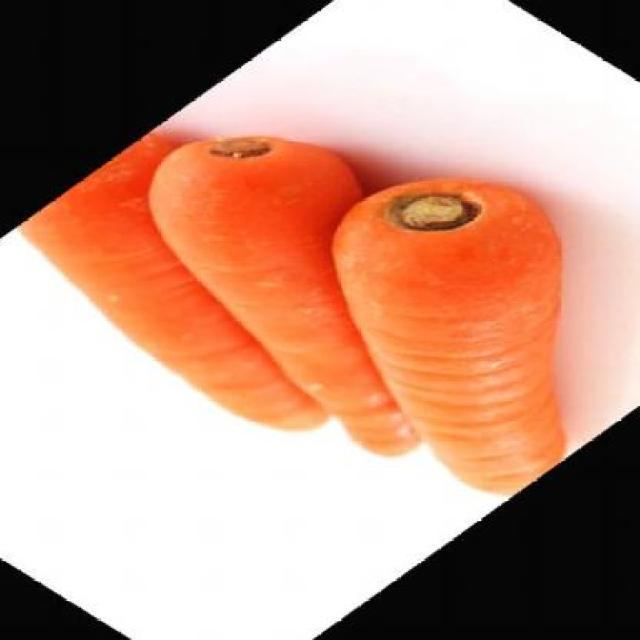carrot: (40, 96, 598, 462), (196, 138, 638, 504), (0, 132, 455, 447)
